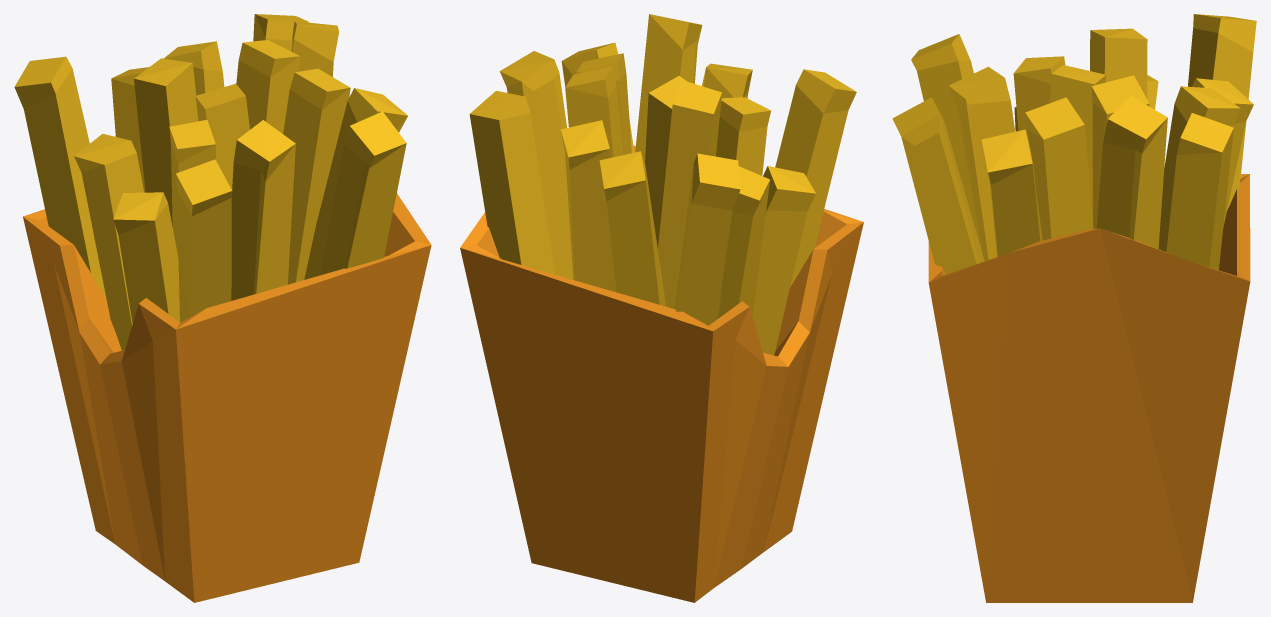
Rendered from Fries.fbx.
The picture shows the model from 3 angles, left to right: view 1: azimuth 30°, elevation 25°; view 2: azimuth 150°, elevation 25°; view 3: azimuth 270°, elevation 25°; orthographic projection. The views are drawn at different scales.
Parts seen in each view (by area): view 1: Cube_low; view 2: Cube_low; view 3: Cube_low.
Boxes of the visible parts, x1=… form: Cube_low: x1=14, y1=14, x2=431, y2=602; Cube_low: x1=460, y1=14, x2=863, y2=602; Cube_low: x1=892, y1=14, x2=1256, y2=602.
Size of the model in its own units: 244 by 259 by 401.
2 materials, 2 textured.
